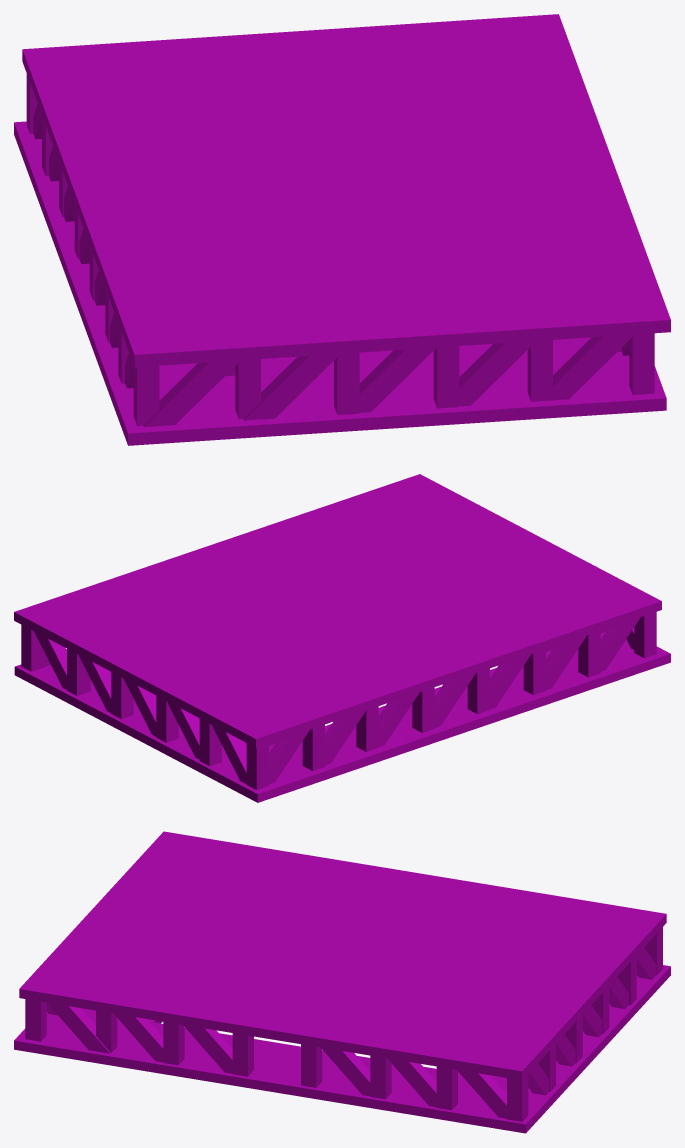
File: Platform_D.fbx
3 views of the same model, one above another, from view 1: azimuth 30°, elevation 25°; view 2: azimuth 150°, elevation 25°; view 3: azimuth 270°, elevation 25° (orthographic). The views are drawn at different scales.
Visible parts, largest first — view 1: Platform_D; view 2: Platform_D; view 3: Platform_D.
Boxes of the visible parts, x1=… form: Platform_D: x1=14, y1=14, x2=670, y2=445; Platform_D: x1=14, y1=474, x2=670, y2=802; Platform_D: x1=14, y1=831, x2=670, y2=1133.
Bounding box in the file's own units: 7.81 × 0.9498 × 8.91.
